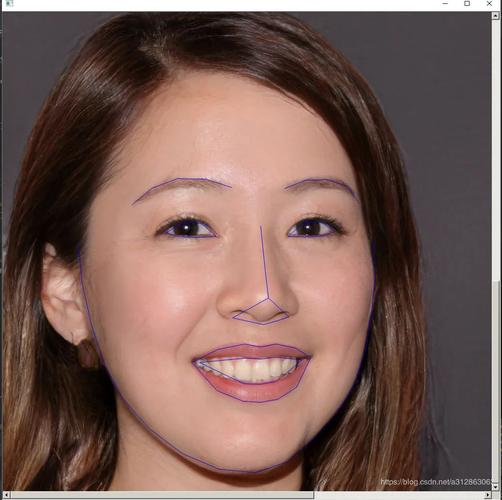nomask: (67, 48, 401, 469)
